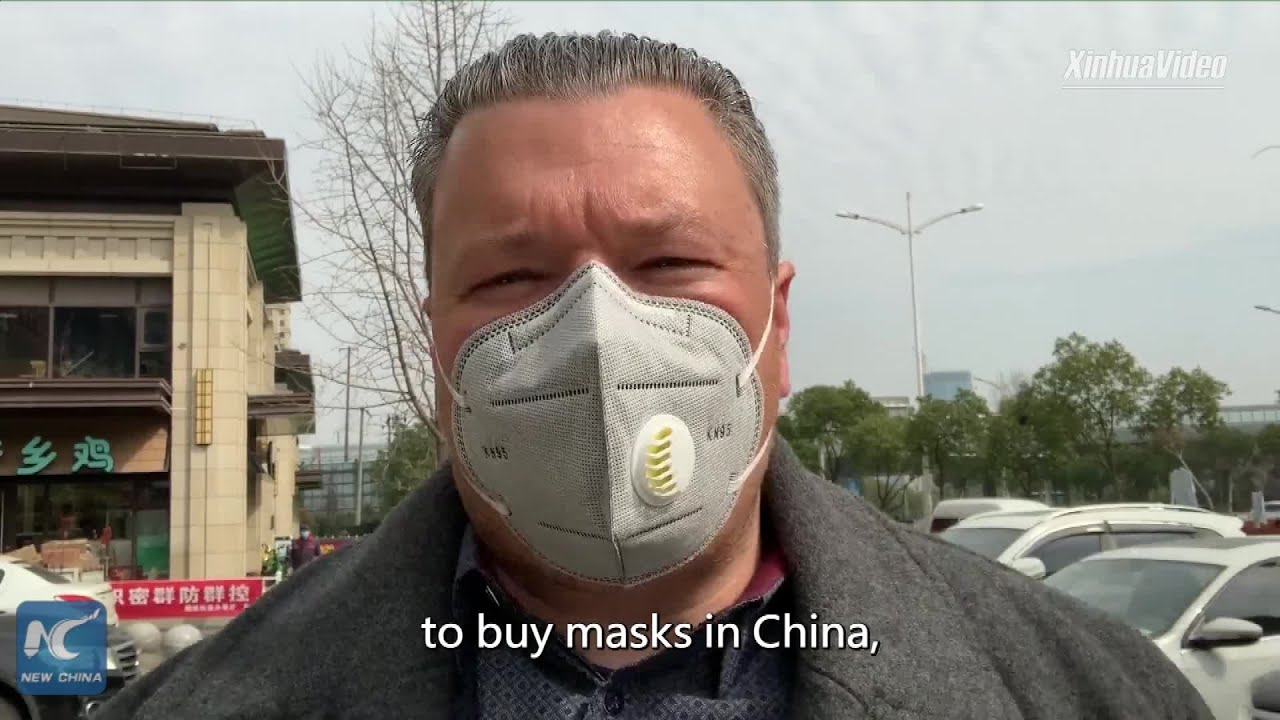n95: (438, 253, 785, 588)
